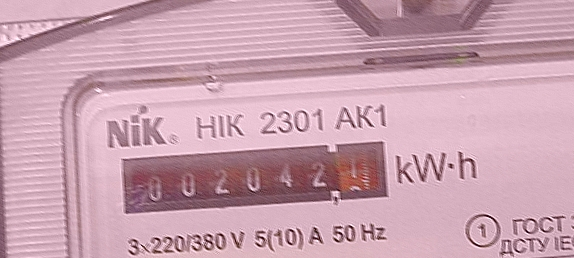0: (143, 171, 164, 202), (177, 167, 196, 200), (242, 162, 262, 193)
1: (343, 149, 359, 181)
2: (210, 166, 230, 196), (308, 158, 327, 188)
4: (274, 157, 295, 191)
screen: (115, 133, 394, 226)
